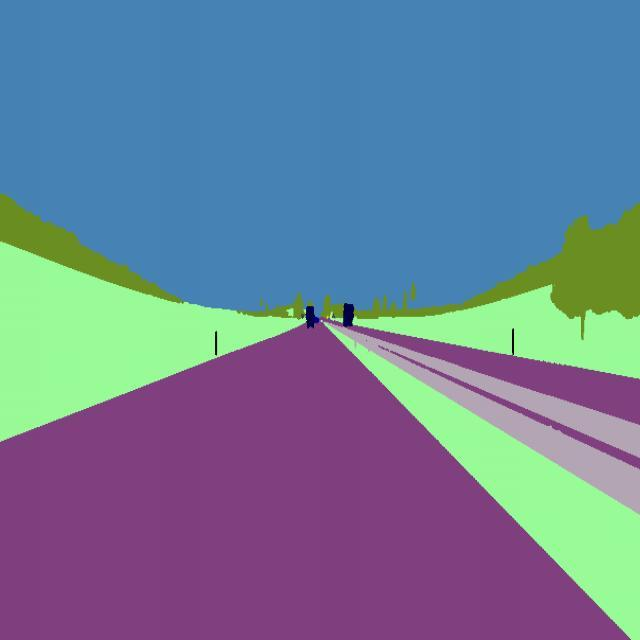safe: (302, 301, 318, 333), (340, 300, 355, 330)
